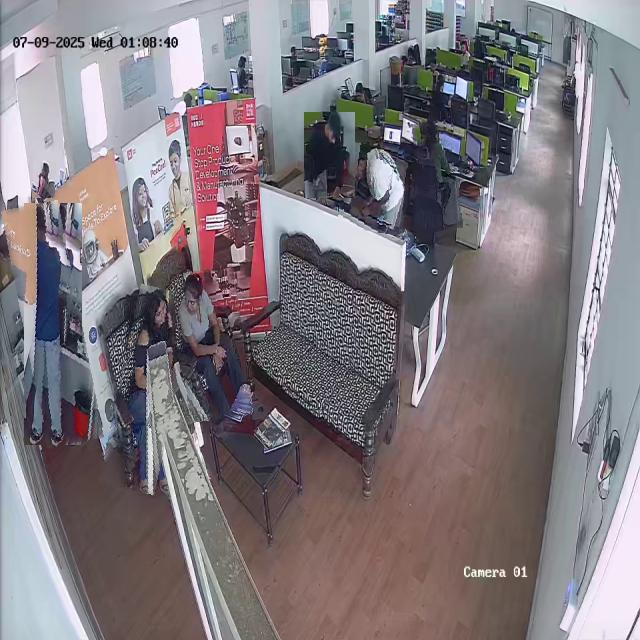person: (13, 202, 93, 446), (109, 286, 186, 494), (175, 268, 249, 422), (340, 144, 408, 234), (414, 120, 459, 232), (304, 112, 355, 198), (33, 162, 56, 198)
